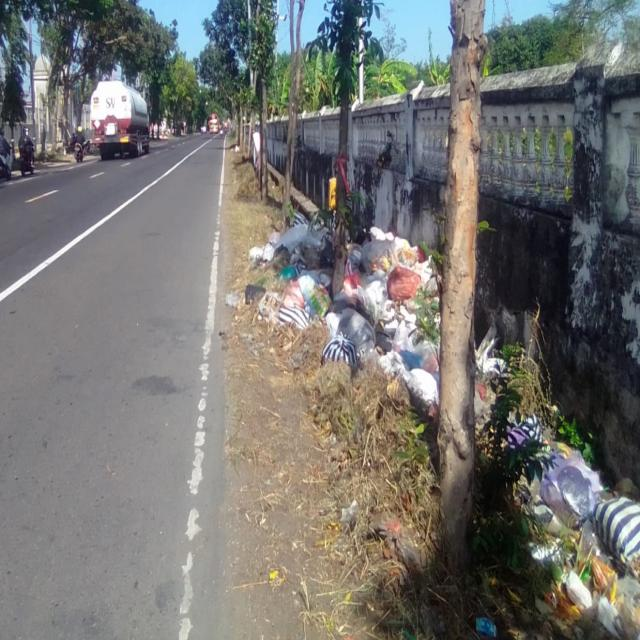trash: (248, 212, 640, 640)
